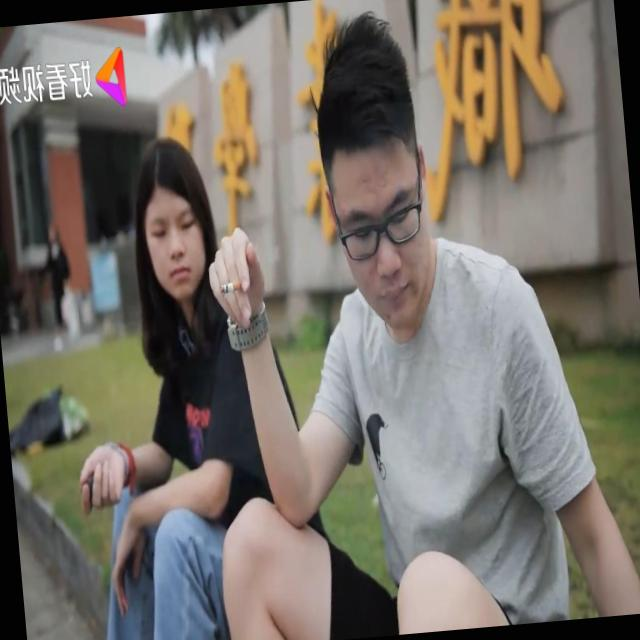smoke: (214, 270, 252, 307)
